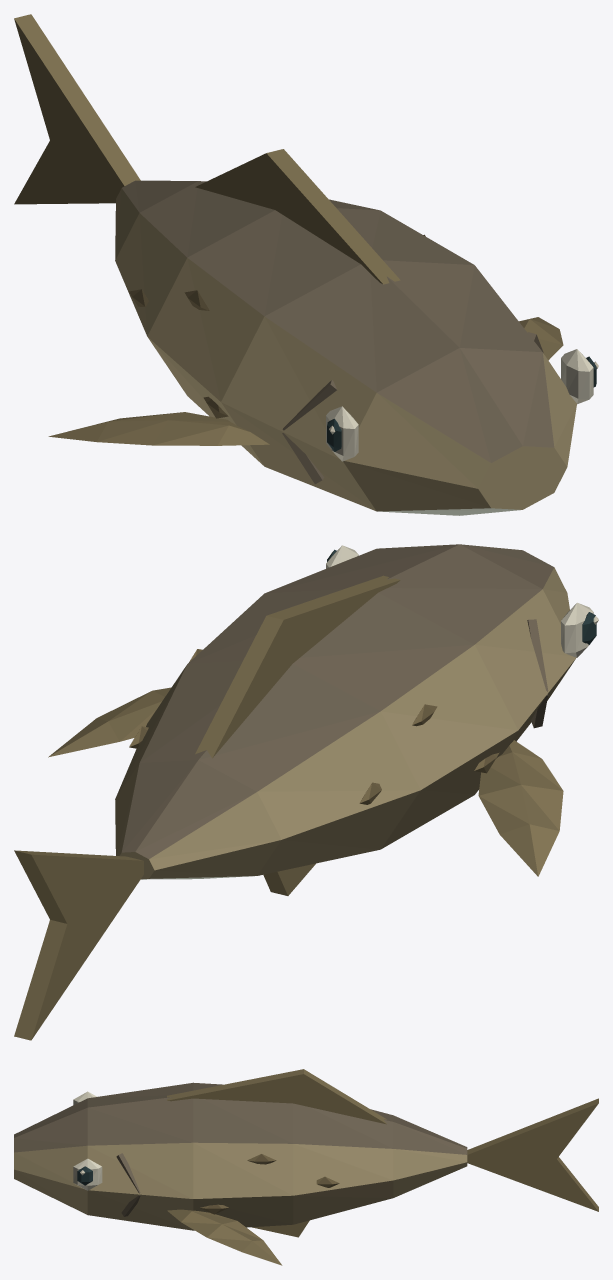
File: fish_mudback.glb
The picture shows the model from 3 angles, top to bottom: view 1: azimuth 30°, elevation 25°; view 2: azimuth 150°, elevation 25°; view 3: azimuth 270°, elevation 25°; orthographic projection. The views are drawn at different scales.
Visible parts, largest first — view 1: fish; view 2: fish; view 3: fish.
Part boxes in pixels (x1,y1,x2,y2): fish: (14, 14, 598, 515); fish: (14, 544, 598, 1040); fish: (14, 1069, 598, 1265).
Bounding box in the file's own units: 0.396 × 0.2157 × 0.6993.
